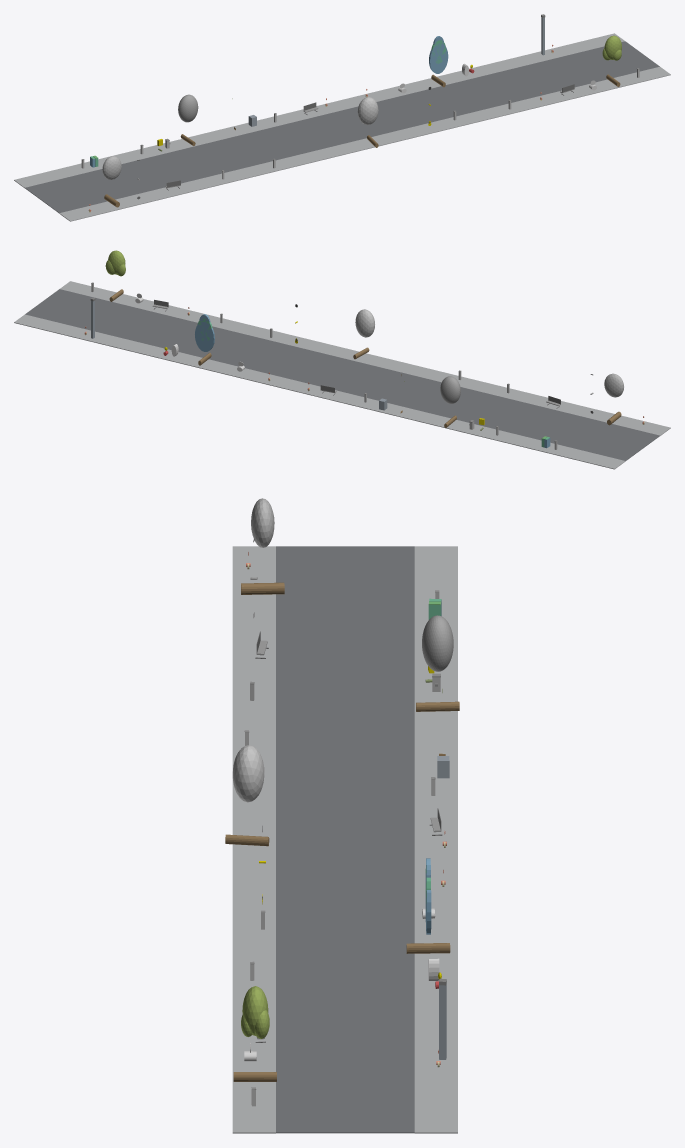
3 renders of one model, top to bottom at view 1: azimuth 30°, elevation 25°; view 2: azimuth 150°, elevation 25°; view 3: azimuth 270°, elevation 25°, orthographic. The views are drawn at different scales.
Parts seen in each view (by area): view 1: road_slab, sidewalk_left, sidewalk_right, inst_0015, inst_0014, inst_0013, inst_0016, inst_0012; view 2: road_slab, sidewalk_right, sidewalk_left, inst_0015, inst_0014, inst_0013, inst_0016, inst_0012; view 3: road_slab, sidewalk_right, sidewalk_left, inst_0014, inst_0013, inst_0016, inst_0012, inst_0015.
Part boxes in pixels (<box>): road_slab: <box>25,41,659,213</box>; sidewalk_left: <box>59,66,670,221</box>; sidewalk_right: <box>14,33,624,188</box>; inst_0015: <box>429,36,448,87</box>; inst_0014: <box>357,97,378,147</box>; inst_0013: <box>178,94,198,145</box>; inst_0016: <box>602,35,621,86</box>; inst_0012: <box>102,156,121,207</box>; road_slab: <box>25,289,659,461</box>; sidewalk_right: <box>14,314,625,469</box>; sidewalk_left: <box>60,281,670,435</box>; inst_0015: <box>195,314,214,365</box>; inst_0014: <box>353,309,374,359</box>; inst_0013: <box>440,376,460,427</box>; inst_0016: <box>105,250,125,301</box>; inst_0012: <box>604,373,623,425</box>; road_slab: <box>276,546,414,1133</box>; sidewalk_right: <box>414,546,457,1133</box>; sidewalk_left: <box>232,546,275,1133</box>; inst_0014: <box>225,745,269,846</box>; inst_0013: <box>416,615,459,711</box>; inst_0016: <box>233,986,276,1081</box>; inst_0012: <box>241,498,284,594</box>; inst_0015: <box>406,858,450,953</box>.
Bounding box in the file's own units: 80 × 6.08 × 13.51.
